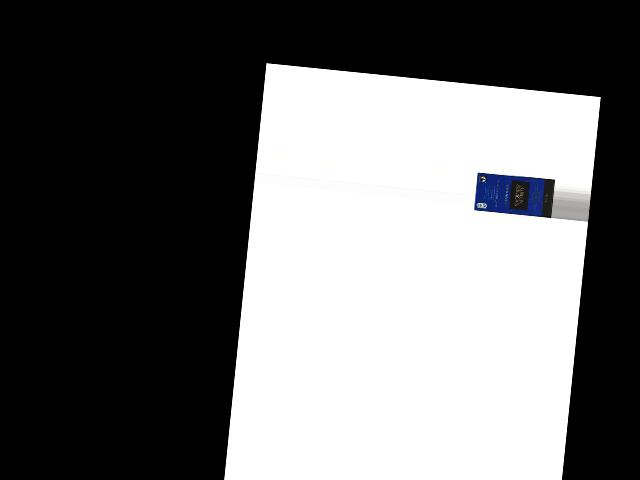chocolate: (475, 171, 554, 218)
